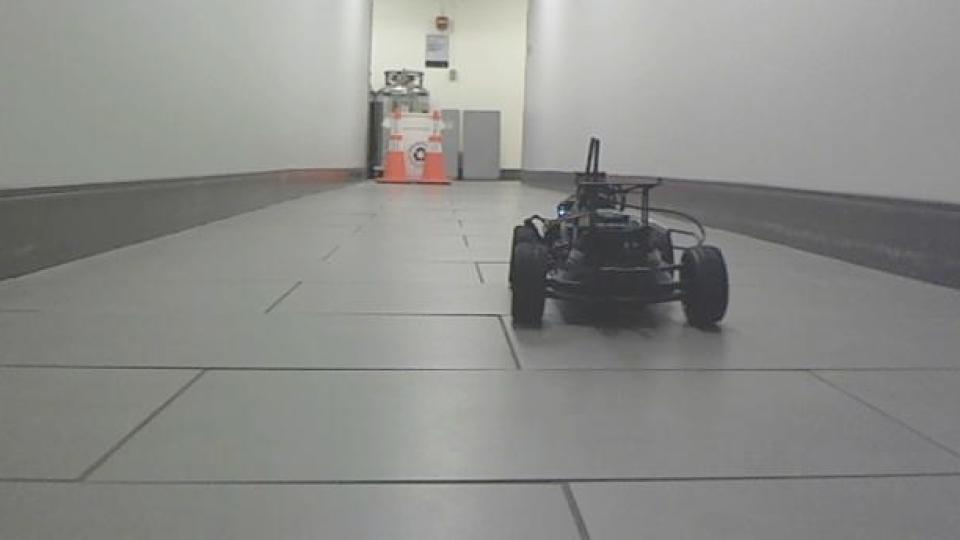car: (504, 135, 731, 333)
